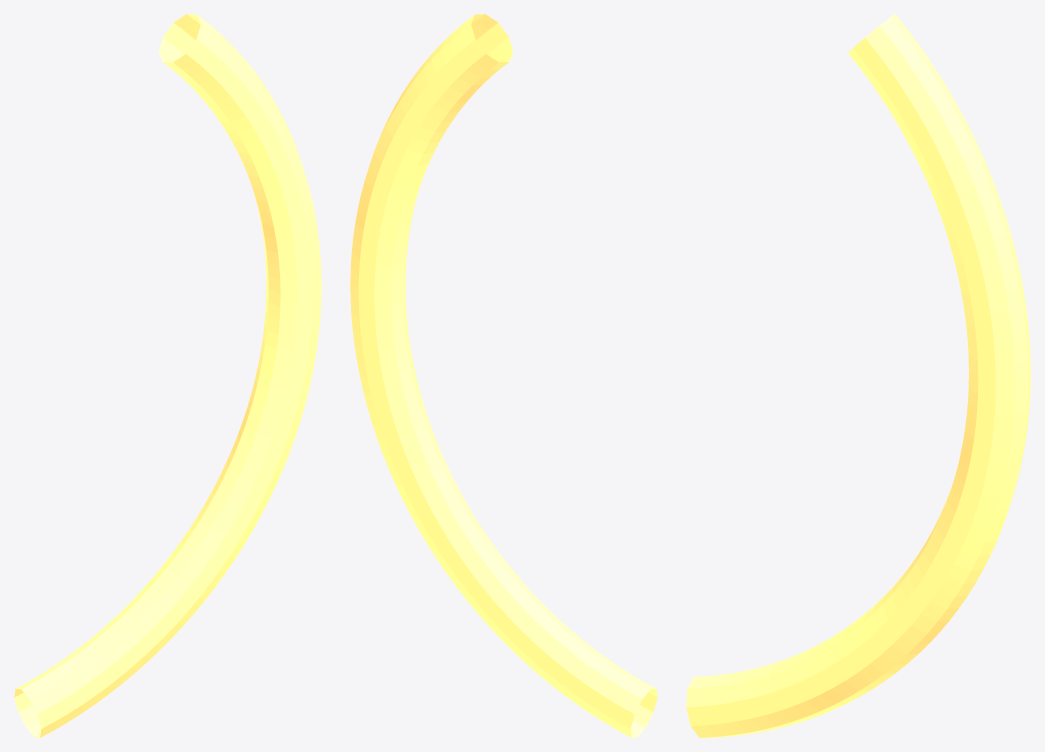
File: ev_core_r10s_halo_warm.glb
3 views of the same model, side by side, from view 1: azimuth 30°, elevation 25°; view 2: azimuth 150°, elevation 25°; view 3: azimuth 330°, elevation 25° (orthographic). The views are drawn at different scales.
Parts seen in each view (by area): view 1: halo_warm; view 2: halo_warm; view 3: halo_warm.
Part boxes in pixels (bbox=[...]): halo_warm: bbox=[14, 14, 321, 737]; halo_warm: bbox=[350, 14, 657, 737]; halo_warm: bbox=[686, 14, 1030, 737].
Bounding box in the file's own units: 56.44 × 124 × 7.49.
